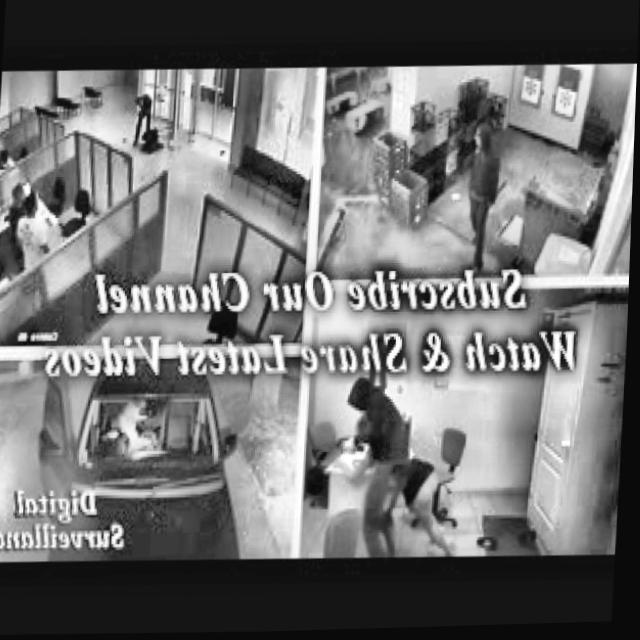robbery: (321, 376, 473, 562)
